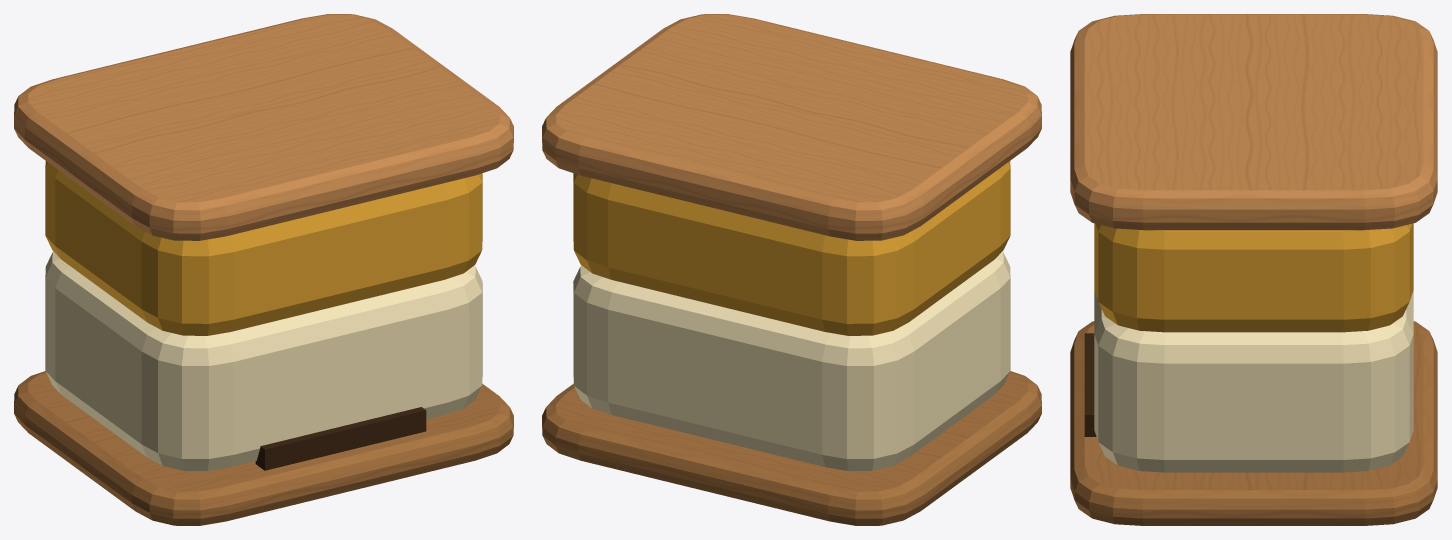
Rendered from bee-box-tier-2.glb.
3 views of the same model, side by side, from view 1: azimuth 30°, elevation 25°; view 2: azimuth 150°, elevation 25°; view 3: azimuth 270°, elevation 25° (orthographic). The views are drawn at different scales.
Bounding box in the file's own units: 0.92 × 0.765 × 0.76.
5 materials, 2 textured.
